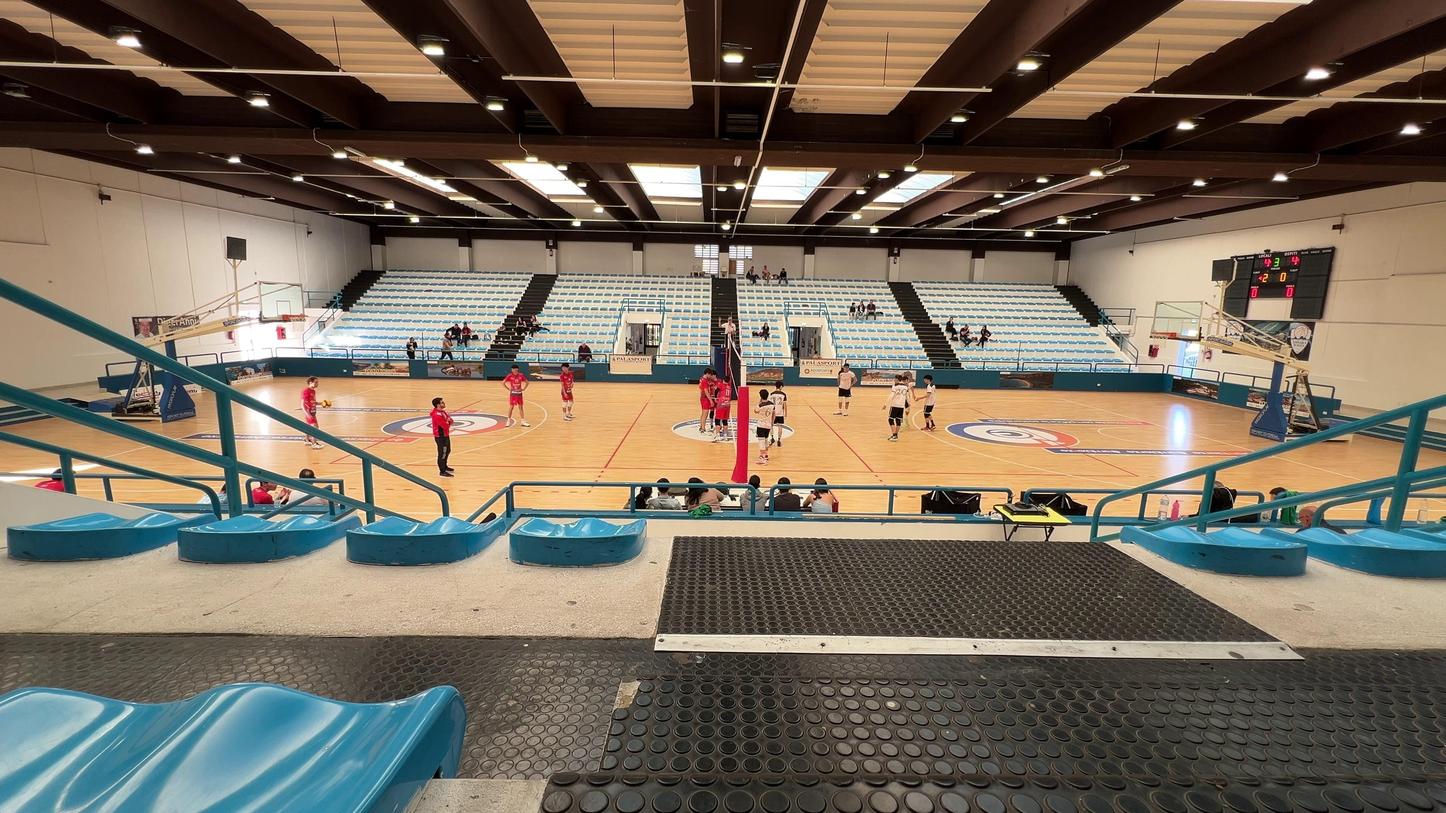volleyball court: (330, 400, 1142, 479)
